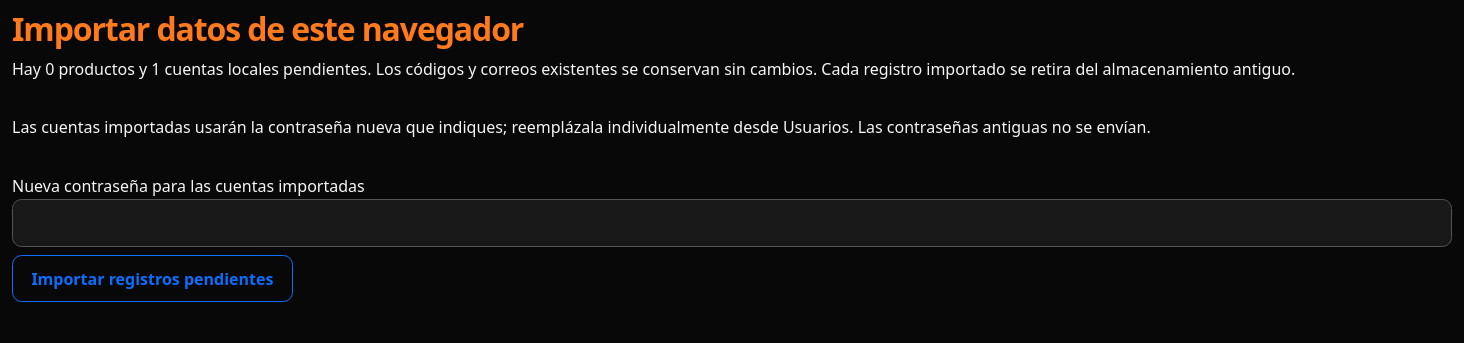
conserva datos si falta contraseña o la API falla y permite reintentar
The image size is (1464, 343).
Click the button "Importar registros pendientes": (152, 279) x1=12 y1=255 x2=293 y2=302
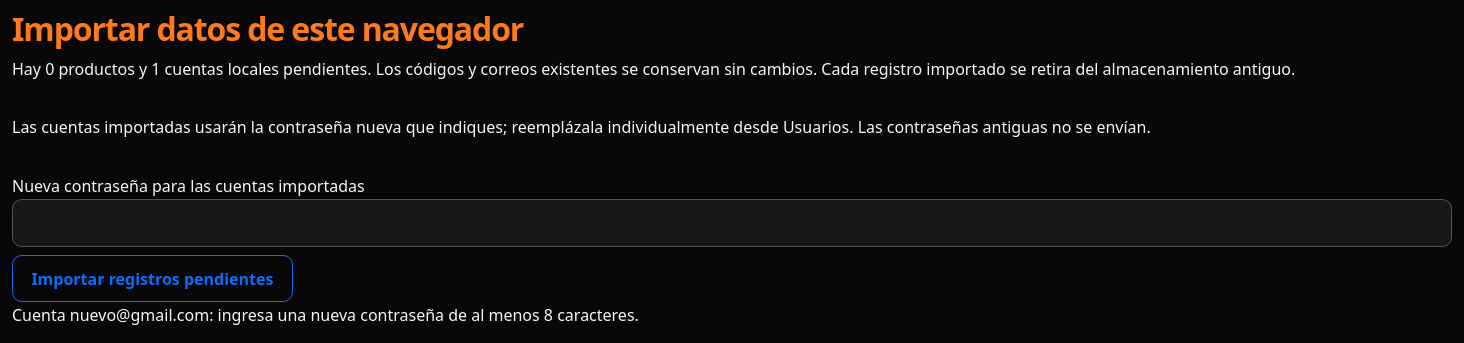
Expected: the message shows "ingresa una nueva contraseña", x1=12 y1=304 x2=639 y2=326
Click the button "Importar registros pendientes": (152, 279) x1=12 y1=255 x2=293 y2=302
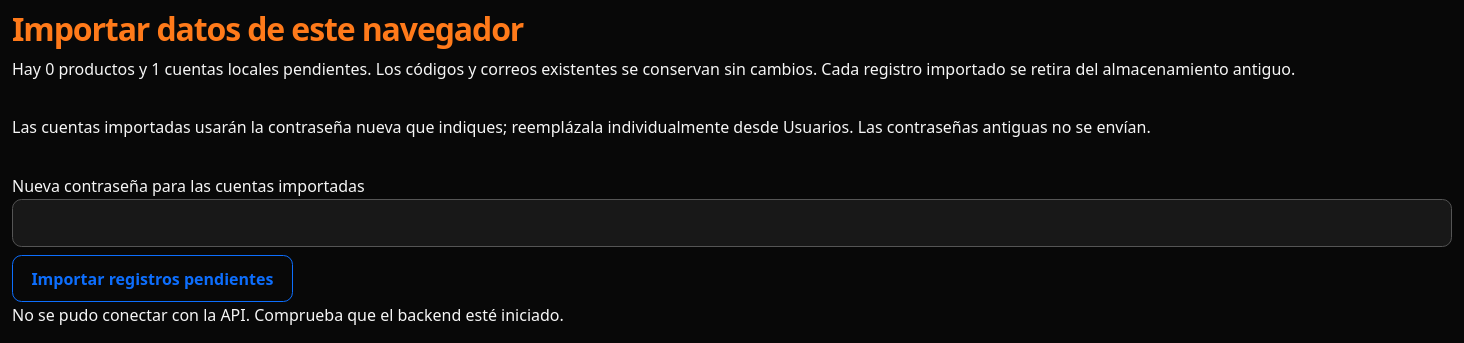
Expected: the text "No se pudo conectar con la API. Comprueba que el backend esté iniciado." is shown, x1=12 y1=304 x2=564 y2=326
